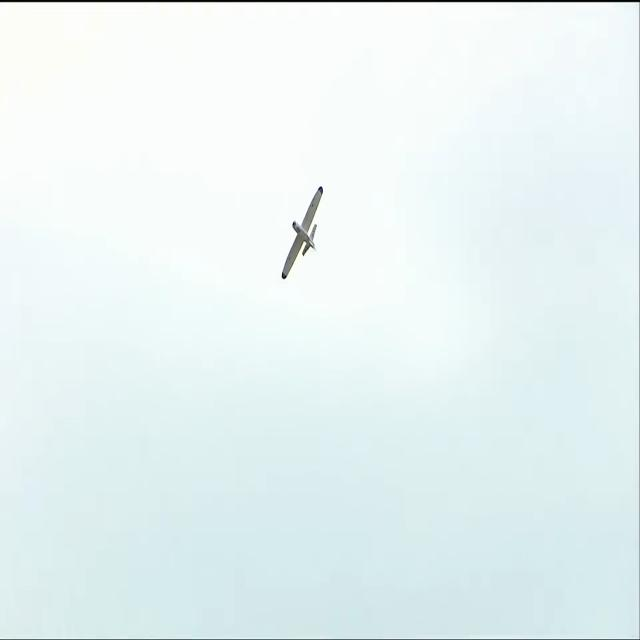iha: (281, 216, 325, 248)
